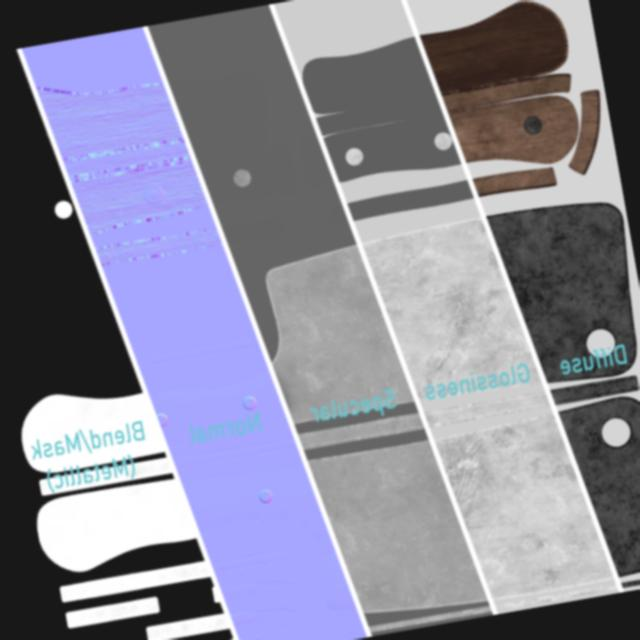cleaver: (0, 189, 640, 477)
